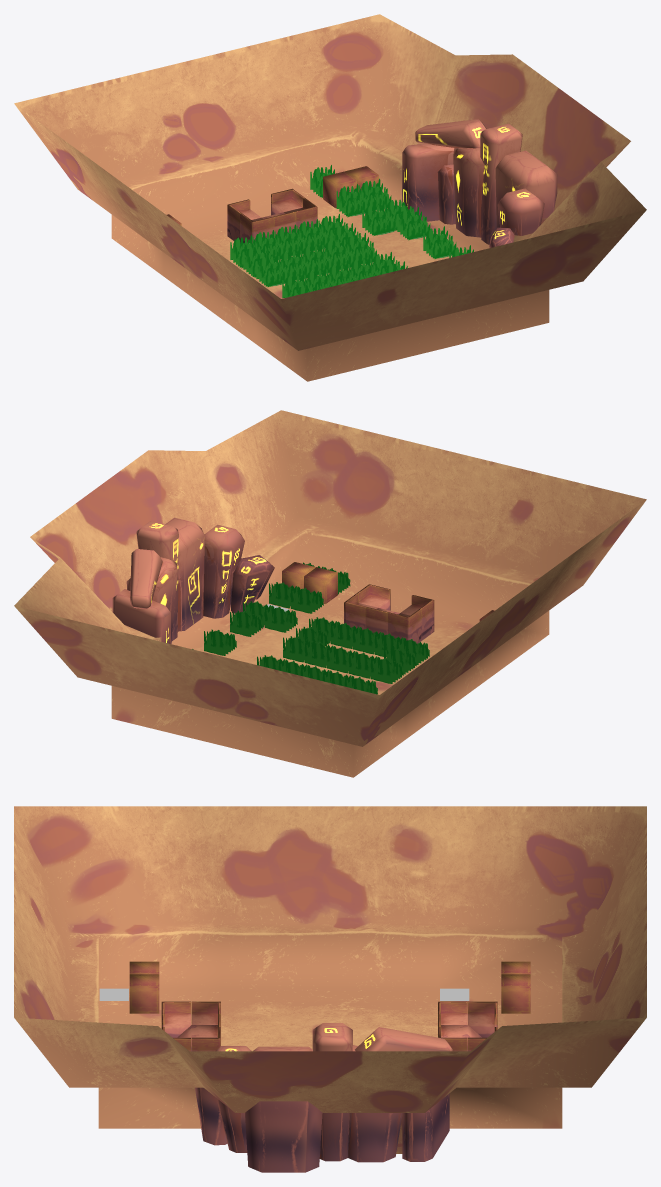
File: TerrainWObjectPat1.fbx
3 views of the same model, one above another, from view 1: azimuth 30°, elevation 25°; view 2: azimuth 150°, elevation 25°; view 3: azimuth 270°, elevation 25° (orthographic). The views are drawn at different scales.
Parts seen in each view (by area): view 1: terrain1, pCube21, pCube17, pCube19, pCube18, pCube16, pCube22, pCube20, polySurface3498, polySurface3499, polySurface3512, polySurface3511 (+13 smaller); view 2: terrain1, pCube16, pCube17, pCube21, pCube15, pCube18, pCube22, pCube19, polySurface416, polySurface181, polySurface417, polySurface3404 (+15 smaller); view 3: terrain1, pCube17, pCube19, pCube18, pCube21, pCube22, polySurface173, pCube15, polySurface113, pCube16, polySurface415, polySurface417 (+2 smaller).
Part boxes in pixels (<box>): terrain1: <box>14,14,646,381</box>; pCube21: <box>402,144,454,221</box>; pCube17: <box>495,150,557,228</box>; pCube19: <box>453,147,484,237</box>; pCube18: <box>480,123,522,244</box>; pCube16: <box>497,188,544,235</box>; pCube22: <box>415,119,486,148</box>; pCube20: <box>437,164,455,224</box>; polySurface3498: <box>362,203,395,235</box>; polySurface3499: <box>336,184,369,217</box>; polySurface3512: <box>397,207,430,240</box>; polySurface3511: <box>423,226,456,258</box>; terrain1: <box>14,410,646,777</box>; pCube16: <box>203,524,244,618</box>; pCube17: <box>165,517,204,631</box>; pCube21: <box>112,589,170,643</box>; pCube15: <box>231,555,274,613</box>; pCube18: <box>136,521,178,641</box>; pCube22: <box>130,549,162,609</box>; pCube19: <box>126,557,177,643</box>; polySurface416: <box>387,609,421,643</box>; polySurface181: <box>304,567,337,603</box>; polySurface417: <box>400,595,434,640</box>; polySurface3404: <box>371,657,403,683</box>; terrain1: <box>14,806,646,1153</box>; pCube17: <box>245,1046,322,1172</box>; pCube19: <box>347,1045,402,1162</box>; pCube18: <box>312,1023,352,1161</box>; pCube21: <box>402,1093,449,1161</box>; pCube22: <box>355,1027,452,1051</box>; polySurface173: <box>129,974,159,1013</box>; pCube15: <box>195,1087,227,1145</box>; polySurface113: <box>501,974,530,1013</box>; pCube16: <box>216,1046,251,1152</box>; polySurface415: <box>468,1001,497,1037</box>; polySurface417: <box>161,1001,190,1037</box>.
Bounding box in the file's own units: 98.27 × 27.51 × 107.
